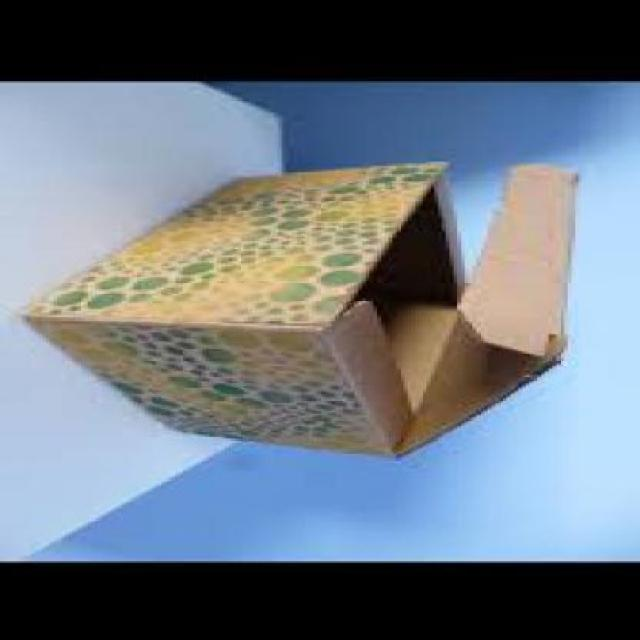CARDBOARD: (29, 162, 578, 462)
